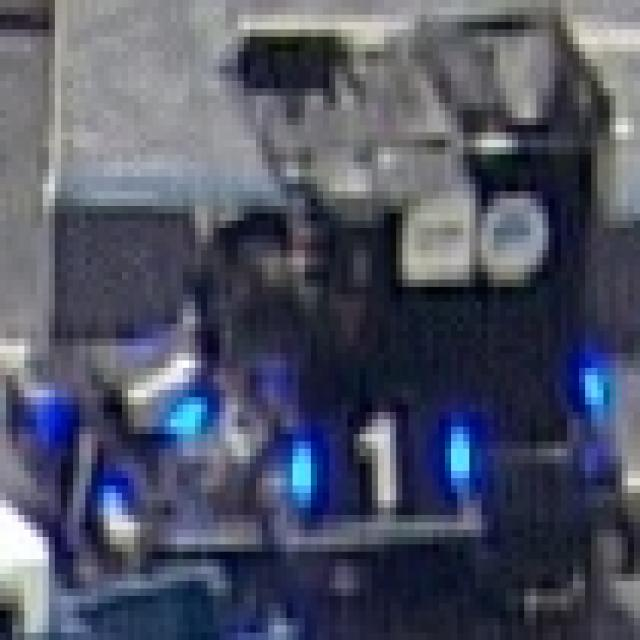B1: (278, 401, 484, 519), (30, 390, 146, 559), (107, 335, 216, 445)
